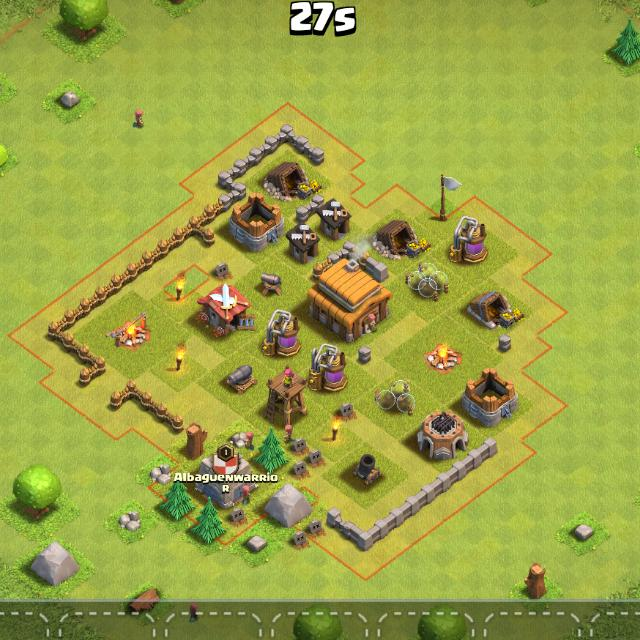Arqueira: (266, 364, 308, 428)
Canhao: (222, 363, 257, 394), (257, 269, 286, 297)
